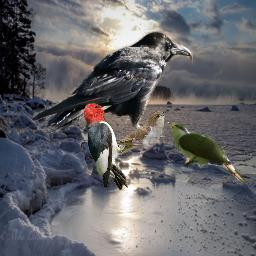Crow: (30, 30, 193, 148)
Cuckoo: (166, 122, 247, 184), (99, 109, 170, 157)
Woodpecker: (84, 102, 129, 190)
